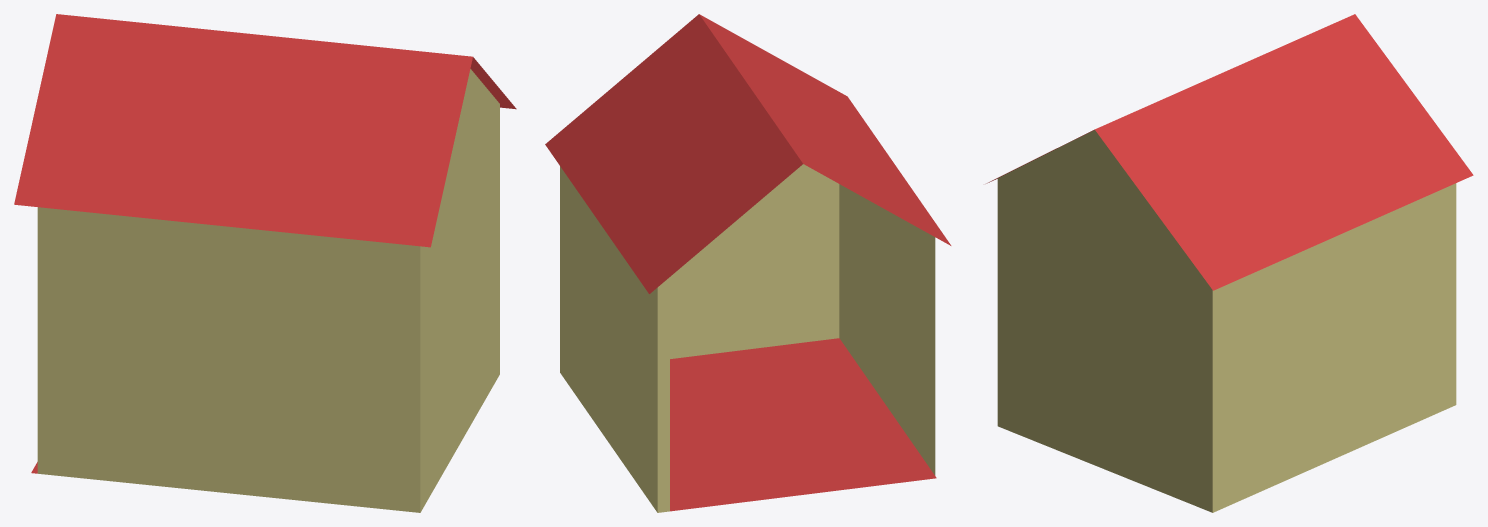
The picture shows the model from 3 angles, left to right: view 1: azimuth 30°, elevation 25°; view 2: azimuth 150°, elevation 25°; view 3: azimuth 270°, elevation 25°; orthographic projection. The views are drawn at different scales.
Size of the model in its own units: 19.98 by 19.91 by 15.27.
